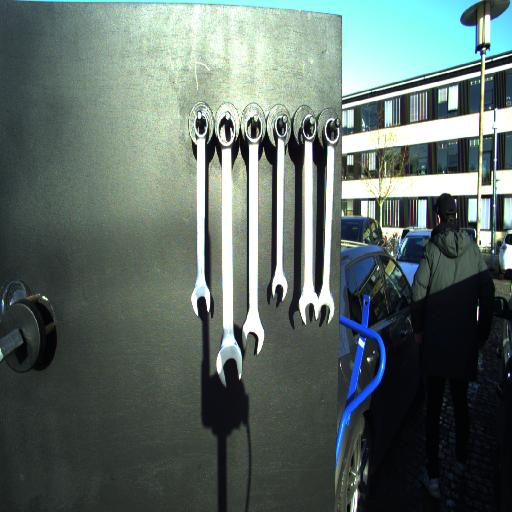bottom: (214, 346, 247, 388), (239, 320, 267, 356), (190, 288, 213, 319), (297, 295, 318, 326), (269, 274, 290, 302), (318, 294, 335, 327)
top: (215, 112, 238, 148), (242, 113, 266, 145), (321, 115, 342, 150), (299, 111, 319, 141), (190, 111, 211, 138), (272, 114, 292, 141)
